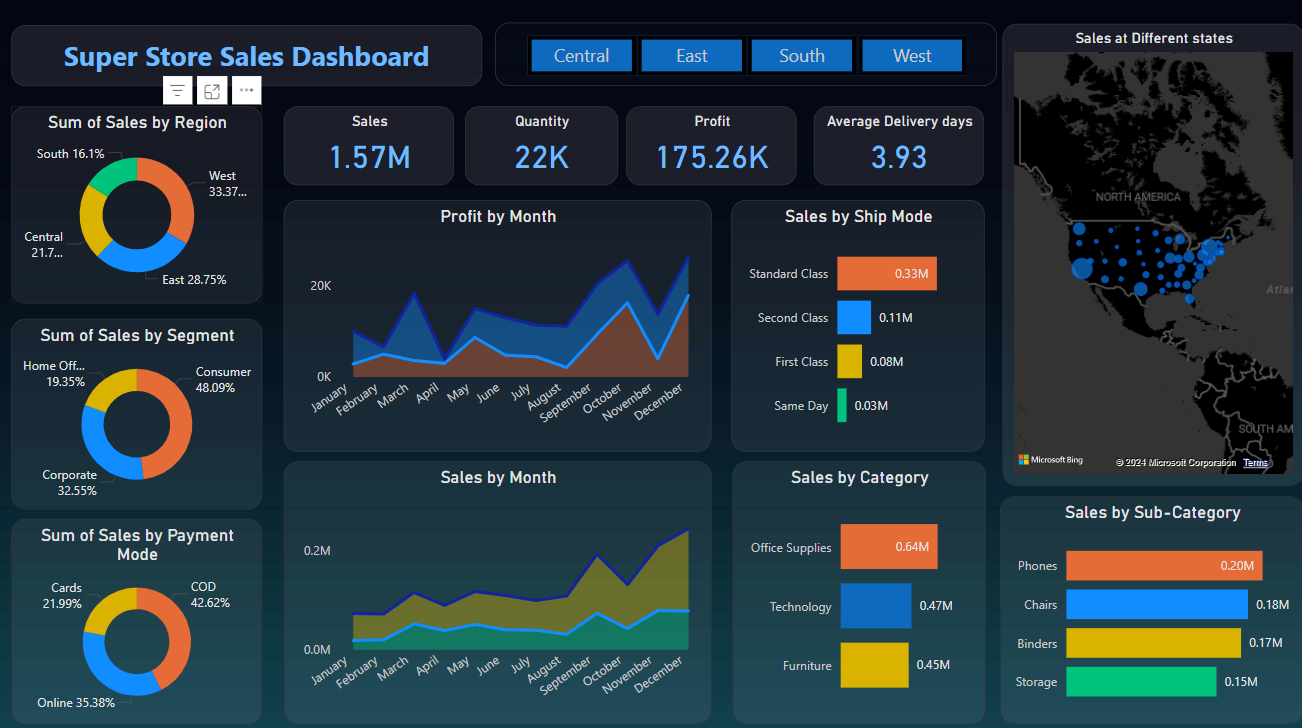

The page's visual inventory and layout, read from the dashboard file:
{"tool":"powerbi","page":{"name":"Dashboard","canvas":[1280,720],"ordinal":0},"visuals":[{"type":"clusteredBarChart","title":"Sales by Category","fields":{"Category":["SuperStore_sales.Category"],"Y":["Sum(SuperStore_sales.Sales)"]},"box":[718.8,452.5,248.8,258.8],"z":0},{"type":"clusteredBarChart","title":"Sales by Sub-Category","fields":{"Category":["SuperStore_sales.Sub-Category"],"Y":["Sum(SuperStore_sales.Sales)"]},"box":[981.2,487.5,298.8,223.8],"z":1000},{"type":"clusteredBarChart","title":"Sales by Ship Mode","fields":{"Category":["SuperStore_sales.Ship Mode"],"Y":["Sum(SuperStore_sales.Sales)"]},"box":[717.5,196.2,248.8,247.5],"z":2000},{"type":"stackedAreaChart","title":"Sales by Month","fields":{"Category":["SuperStore_sales.Order Date.Variation.Date Hierarchy.Month","SuperStore_sales.Order Date.Variation.Date Hierarchy.Day"],"Y":["Sum(SuperStore_sales.Sales)"],"Series":["SuperStore_sales.Order Date.Variation.Date Hierarchy.Year"]},"box":[278.8,452.5,420,258.8],"z":3000},{"type":"stackedAreaChart","title":"Profit by Month","fields":{"Category":["SuperStore_sales.Order Date.Variation.Date Hierarchy.Month","SuperStore_sales.Order Date.Variation.Date Hierarchy.Day"],"Series":["SuperStore_sales.Order Date.Variation.Date Hierarchy.Year"],"Y":["Sum(SuperStore_sales.Profit)"]},"box":[278.8,196.2,420,247.5],"z":4000},{"type":"map","title":"Sales at Different states","fields":{"Category":["SuperStore_sales.State"],"Size":["Sum(SuperStore_sales.Sales)"]},"box":[983.8,23.8,296.2,453.8],"z":5000},{"type":"slicer","fields":{"Values":["SuperStore_sales.Region"]},"box":[486.2,22.5,492.5,62.5],"z":6000},{"type":"donutChart","fields":{"Y":["Sum(SuperStore_sales.Sales)"],"Category":["SuperStore_sales.Segment"]},"box":[11.2,312.5,246.2,187.5],"z":7000},{"type":"textbox","box":[11.2,25,462.5,60],"z":8000},{"type":"donutChart","fields":{"Y":["Sum(SuperStore_sales.Sales)"],"Category":["SuperStore_sales.Payment Mode"]},"box":[11.2,508.8,246.2,202.5],"z":9000},{"type":"card","title":"Sales","fields":{"Values":["Sum(SuperStore_sales.Sales)"]},"box":[278.8,103.8,167.5,77.5],"z":10000},{"type":"card","title":"Quantity","fields":{"Values":["Sum(SuperStore_sales.Quantity)"]},"box":[456.2,103.8,150,77.5],"z":11000},{"type":"card","title":"Average Delivery days","fields":{"Values":["Avg(SuperStore_sales.AvgDelivery)"]},"box":[798.8,103.8,167.5,77.5],"z":12000},{"type":"card","title":"Profit","fields":{"Values":["Sum(SuperStore_sales.Profit)"]},"box":[615,103.8,167.5,77.5],"z":13000},{"type":"donutChart","fields":{"Y":["Sum(SuperStore_sales.Sales)"],"Category":["SuperStore_sales.Region"]},"box":[11.2,103.8,246.2,193.8],"z":14000}]}

Visuals, with their boxes in screenshot pixels (x1, y1, x2, y2), scaled from the page's 1280x720 canvas onto the 1302x728 screenshot:
"Sales by Category" clusteredBarChart: x1=731, y1=458, x2=984, y2=719
"Sales by Sub-Category" clusteredBarChart: x1=998, y1=493, x2=1301, y2=719
"Sales by Ship Mode" clusteredBarChart: x1=730, y1=198, x2=983, y2=449
"Sales by Month" stackedAreaChart: x1=284, y1=458, x2=711, y2=719
"Profit by Month" stackedAreaChart: x1=284, y1=198, x2=711, y2=449
"Sales at Different states" map: x1=1001, y1=24, x2=1301, y2=483
slicer - SuperStore_sales.Region: x1=495, y1=23, x2=996, y2=86
donutChart - Sum(SuperStore_sales.Sales) x SuperStore_sales.Segment: x1=11, y1=316, x2=262, y2=506
textbox: x1=11, y1=25, x2=482, y2=86
donutChart - Sum(SuperStore_sales.Sales) x SuperStore_sales.Payment Mode: x1=11, y1=514, x2=262, y2=719
"Sales" card: x1=284, y1=105, x2=454, y2=183
"Quantity" card: x1=464, y1=105, x2=617, y2=183
"Average Delivery days" card: x1=813, y1=105, x2=983, y2=183
"Profit" card: x1=626, y1=105, x2=796, y2=183
donutChart - Sum(SuperStore_sales.Sales) x SuperStore_sales.Region: x1=11, y1=105, x2=262, y2=301
